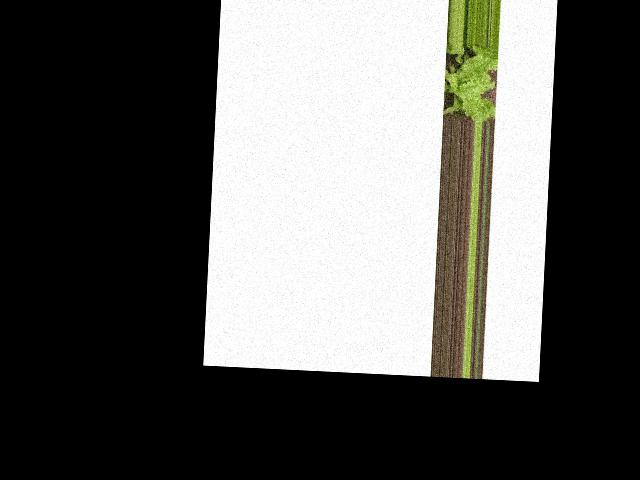lettuce: (439, 42, 496, 122)
